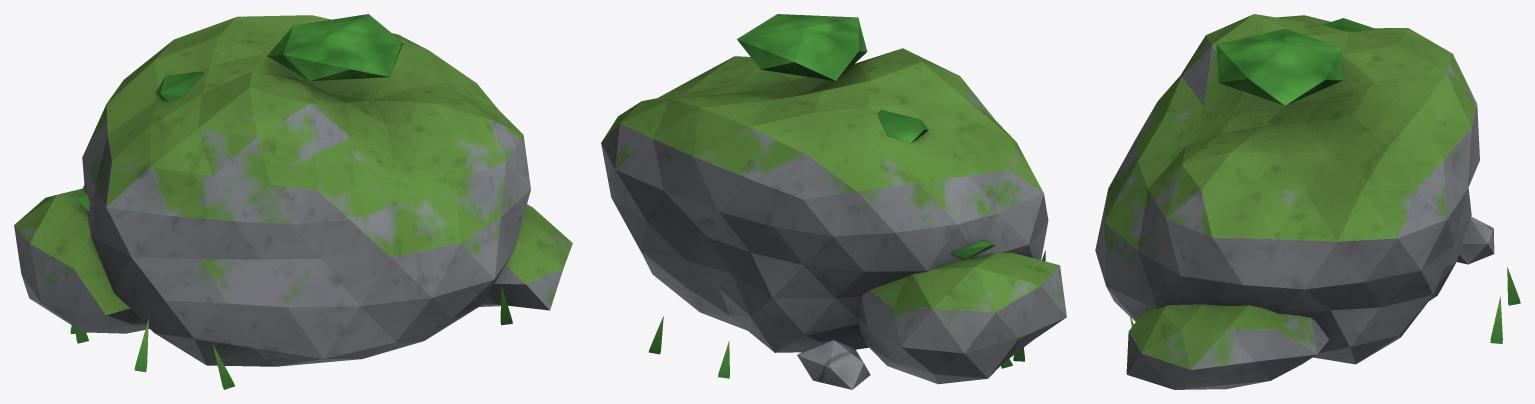
The model's file is piedra_grande.fbx.
3 renders of one model, left to right at view 1: azimuth 30°, elevation 25°; view 2: azimuth 150°, elevation 25°; view 3: azimuth 270°, elevation 25°, orthographic. The views are drawn at different scales.
Visible parts, largest first — view 1: piedra_grande; view 2: piedra_grande; view 3: piedra_grande.
Part boxes in pixels (left/top/right/bottom): piedra_grande: left=14, top=14, right=572, bottom=389; piedra_grande: left=601, top=14, right=1066, bottom=389; piedra_grande: left=1095, top=14, right=1520, bottom=389.
Size of the model in its own units: 14.31 by 7.78 by 10.93.
Materials: 1 (1 with a texture image).
